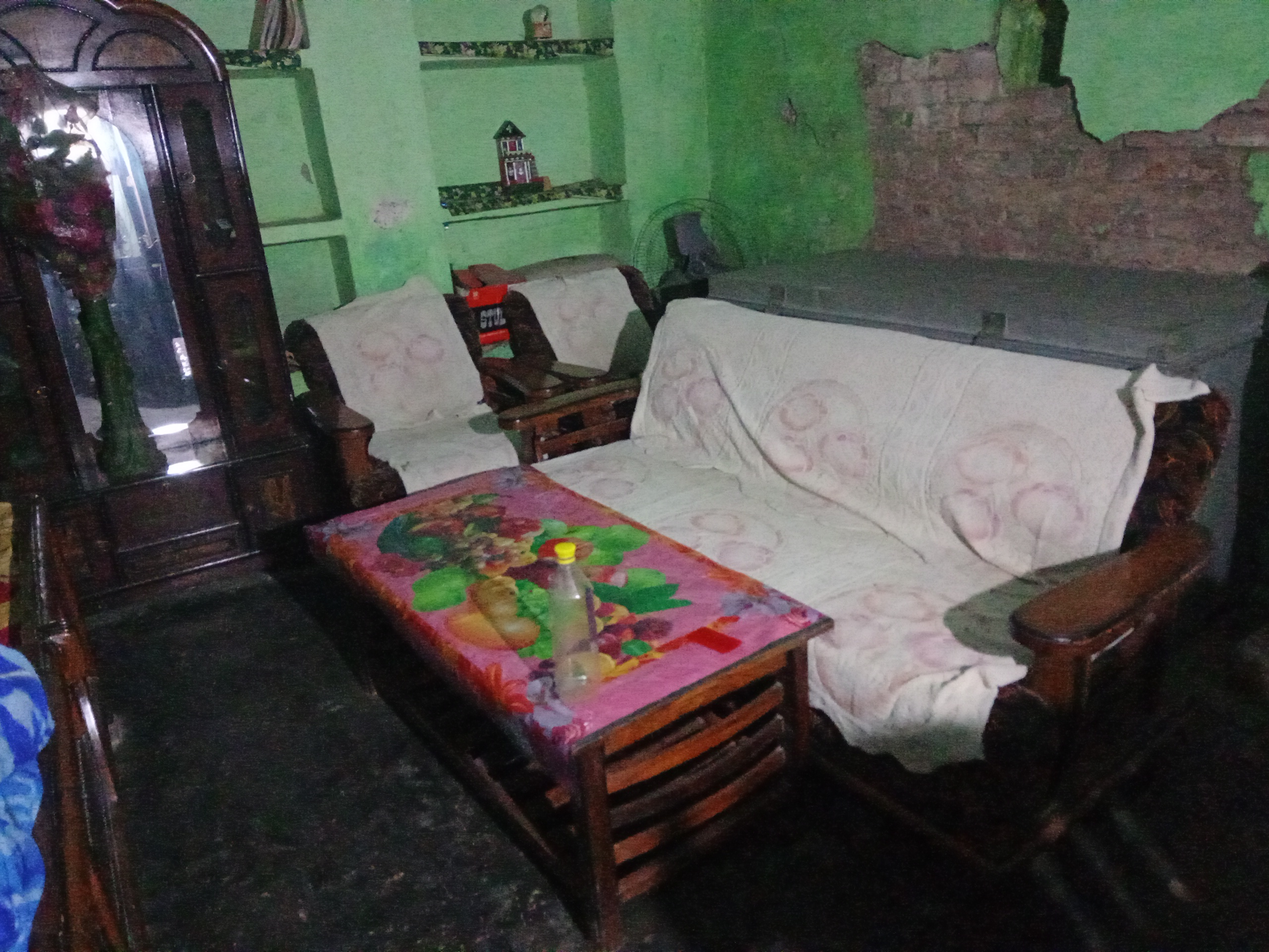sofa: (491, 298, 1233, 886), (282, 284, 529, 519), (514, 263, 674, 393)
table: (309, 459, 834, 946)
